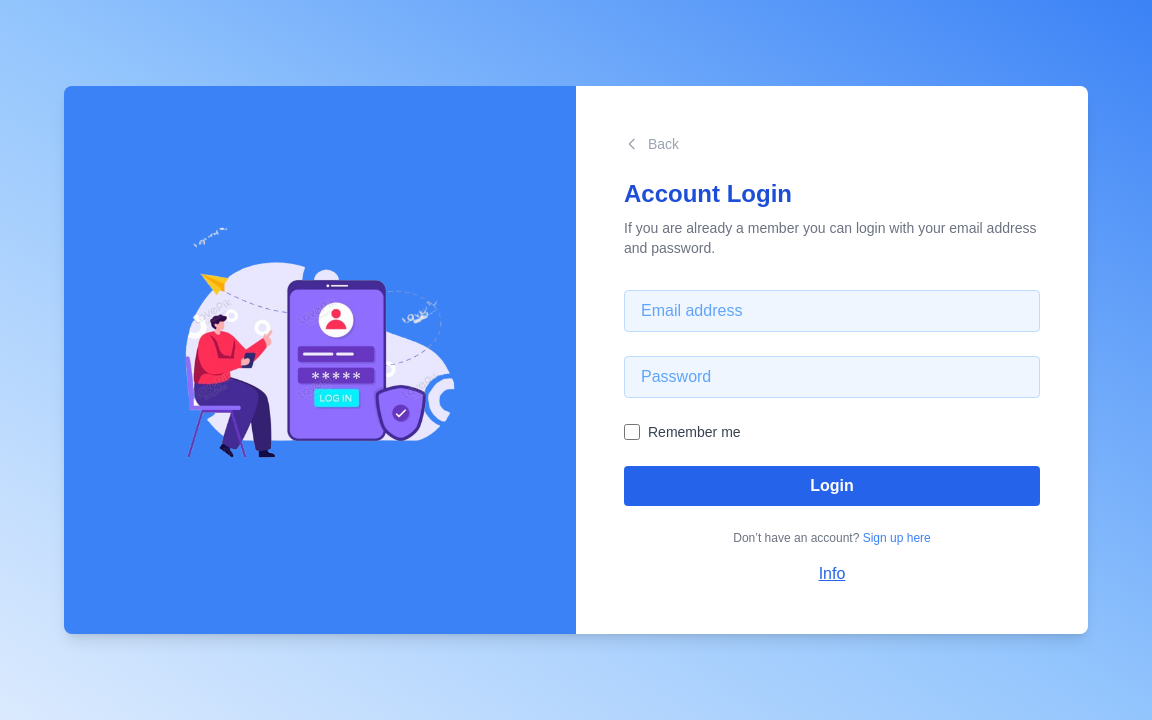
LoginPage › login gagal menampilkan error
This screenshot has width=1152, height=720.
Type "wrong@example.com" into the field with placeholder "Email address" at (832, 311), box [624,290,1040,332]
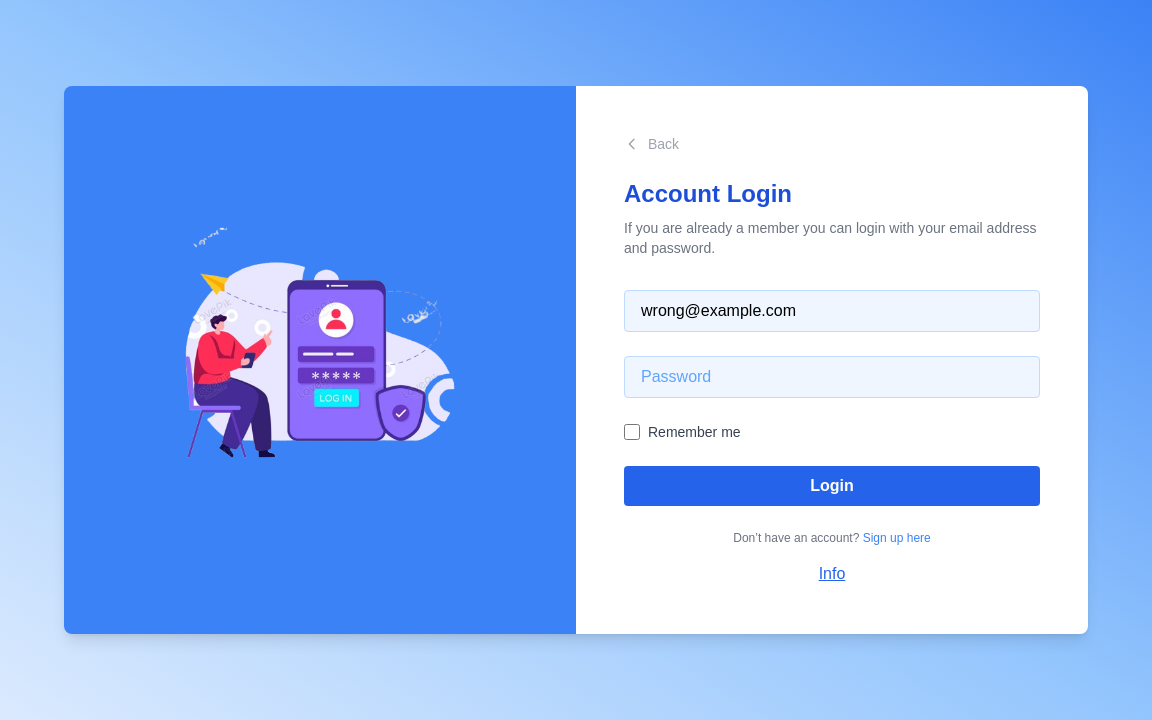
Type "wrongpass" into the password field with placeholder "Password" at (832, 377), box [624,356,1040,398]
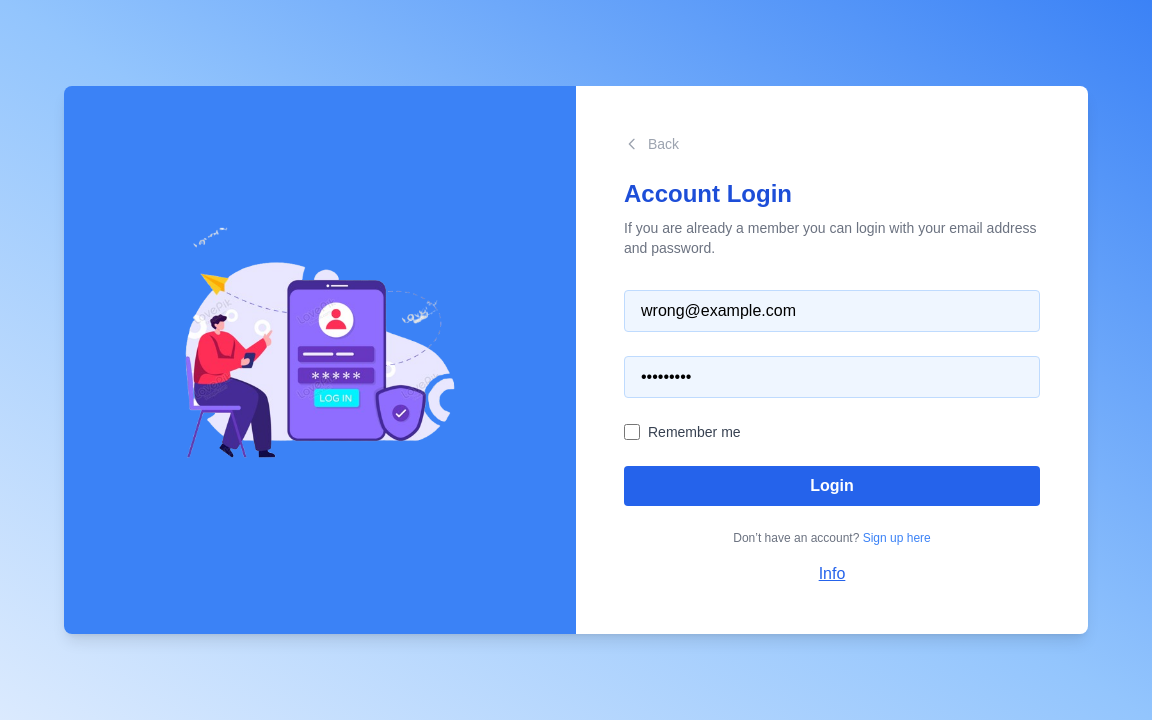
Click the button "Login" at (832, 486), box [624,466,1040,506]
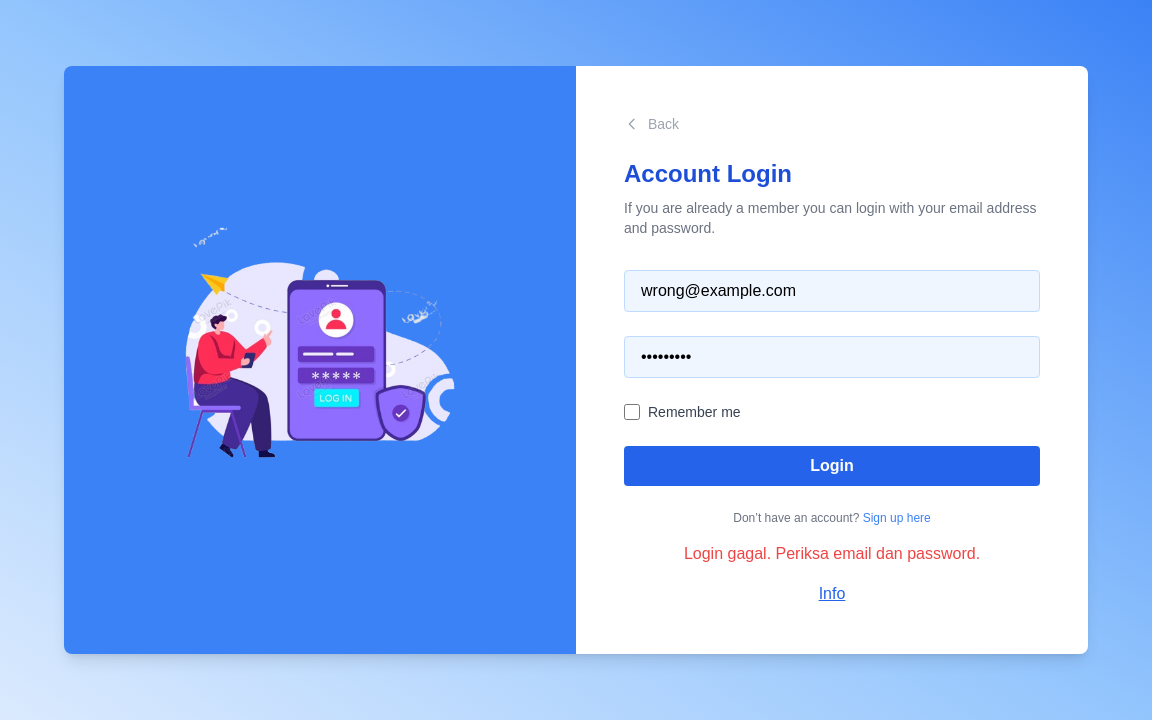
Now the text "Login gagal. Periksa email dan password." is shown, box [684,545,980,562]
